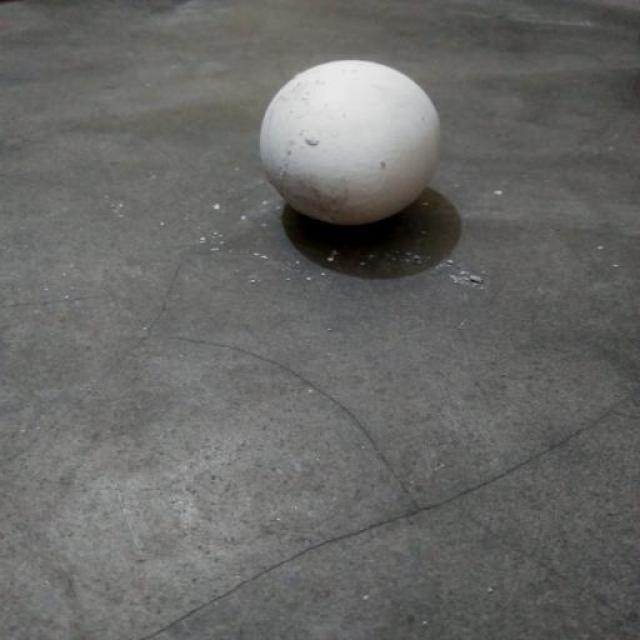telur: (261, 59, 440, 225)
